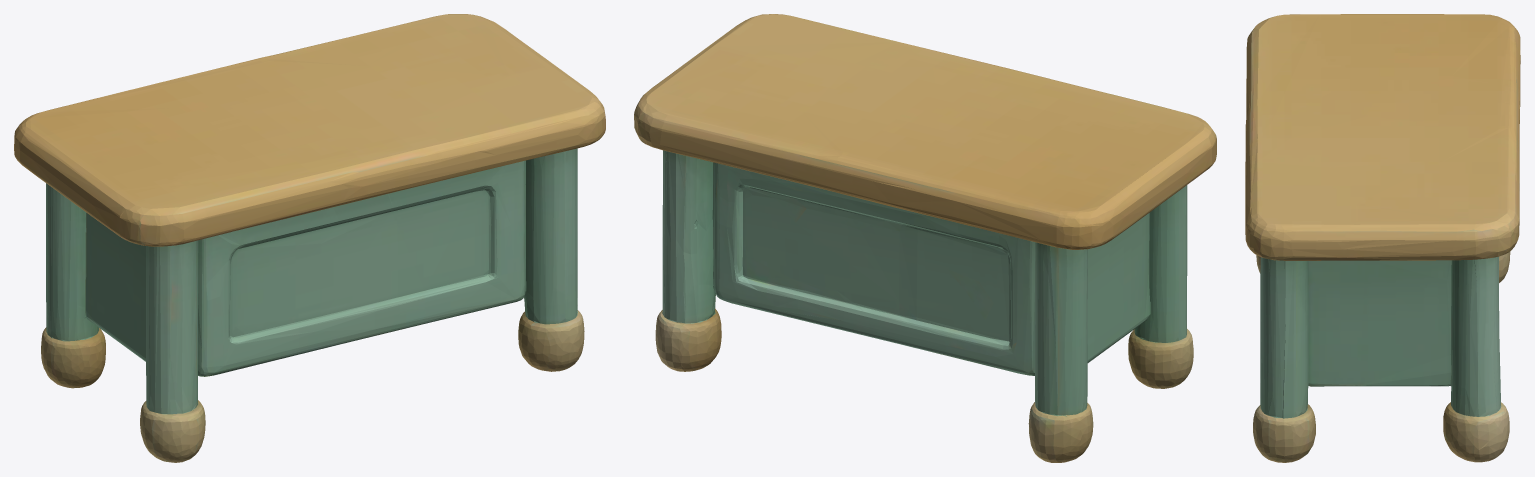
Rendered from teacher_desk.glb.
3 renders of one model, left to right at view 1: azimuth 30°, elevation 25°; view 2: azimuth 150°, elevation 25°; view 3: azimuth 270°, elevation 25°, orthographic. The views are drawn at different scales.
Visible parts, largest first — view 1: geometry_0; view 2: geometry_0; view 3: geometry_0.
Part boxes in pixels (box(x1,y1,x2,y2)): geometry_0: box(14, 14, 605, 462); geometry_0: box(634, 14, 1216, 462); geometry_0: box(1245, 14, 1520, 462).
Bounding box in the file's own units: 0.9992 × 0.5276 × 0.5231.
Materials: 1 (1 with a texture image).
